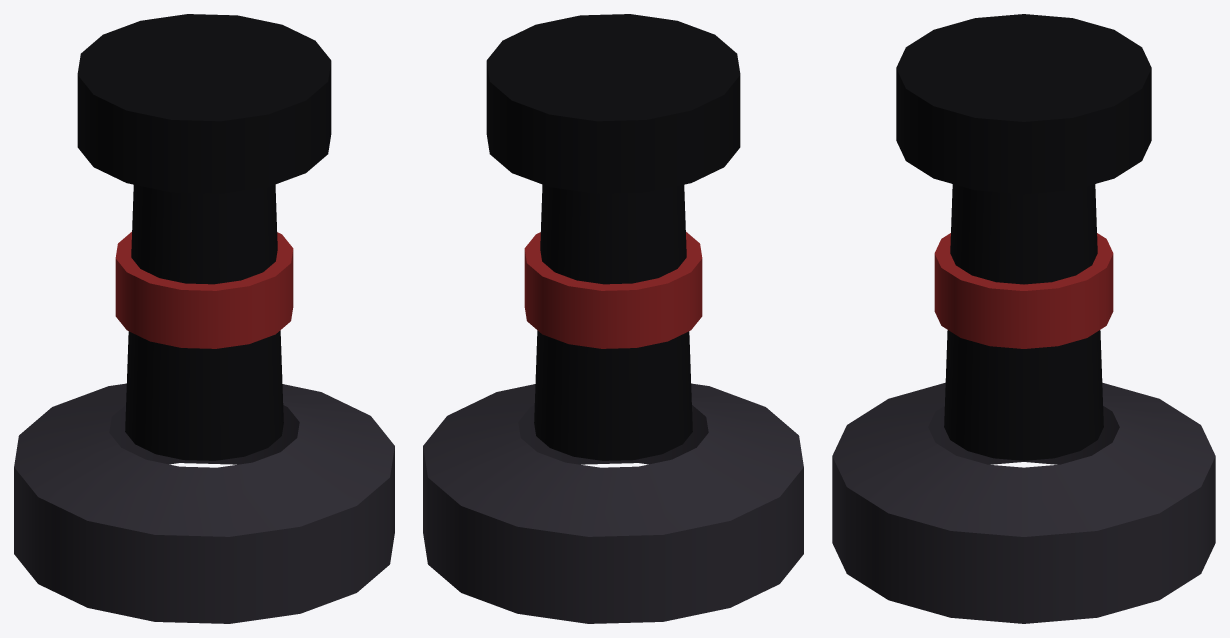
File: t1_antenna.obj
3 renders of one model, left to right at view 1: azimuth 30°, elevation 25°; view 2: azimuth 150°, elevation 25°; view 3: azimuth 270°, elevation 25°, orthographic.
Parts seen in each view (by area): view 1: t1_antenna; view 2: t1_antenna; view 3: t1_antenna.
Boxes of the visible parts, box(x1,y1,x2,y2) form: t1_antenna: box(14, 14, 394, 623); t1_antenna: box(423, 14, 803, 623); t1_antenna: box(832, 14, 1215, 623).
Bounding box in the file's own units: 0.12 × 0.164 × 0.12.
